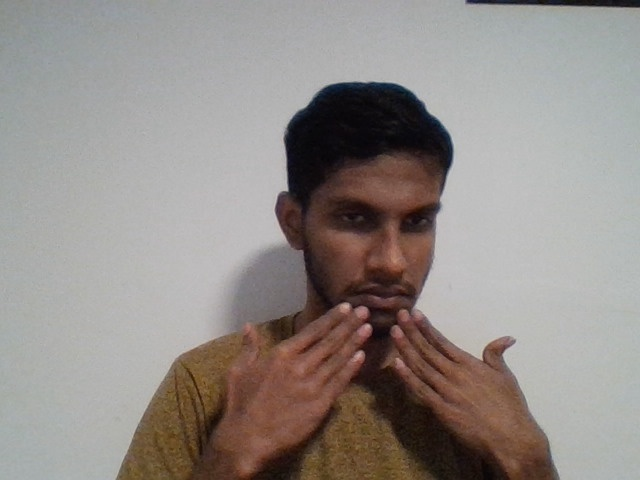thanks: (185, 296, 579, 465)
